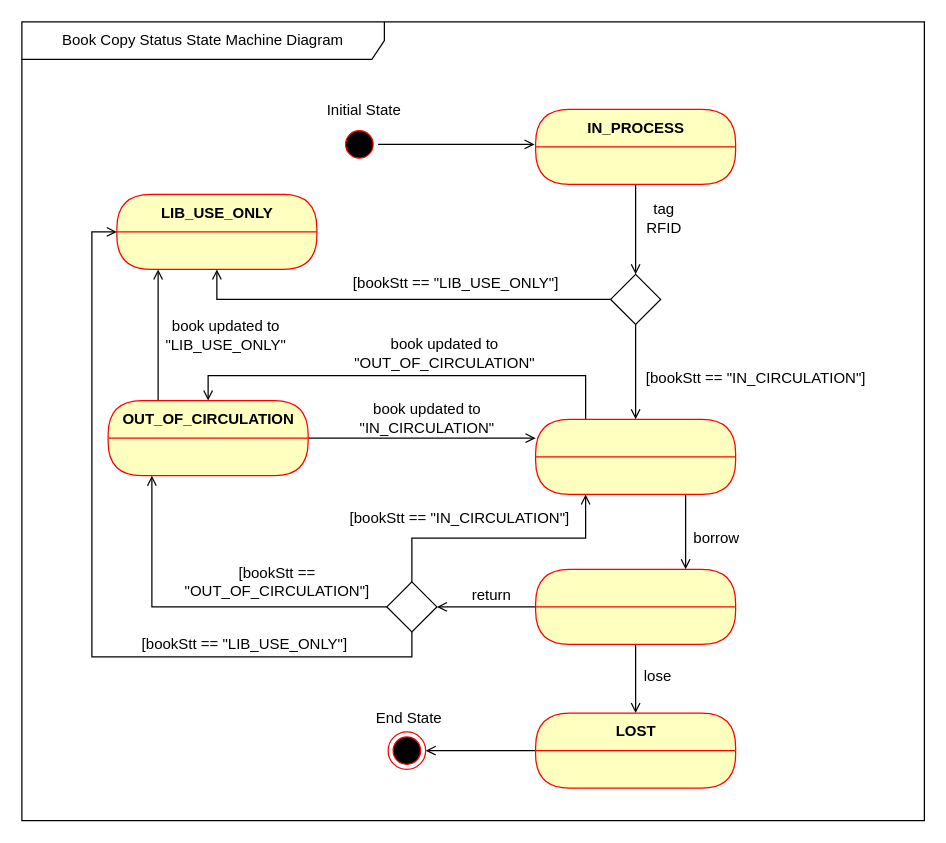
Some shapes in this 946 by 843 pixel diagram are drawn without their labels. Each missing label, with the centre of its shape:
AVAILABLE: the point at 635,456
BORROWED: the point at 635,606
